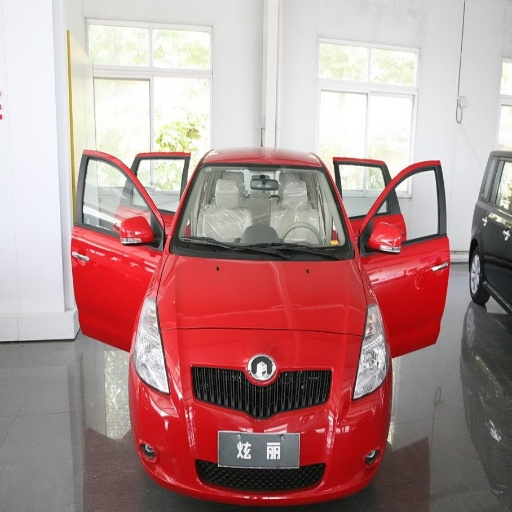front_bumper: (137, 333, 388, 507)
front_left_light: (353, 310, 388, 398)
front_right_door: (91, 151, 158, 255)
hood: (165, 255, 365, 333)
trunk: (169, 328, 255, 395)
